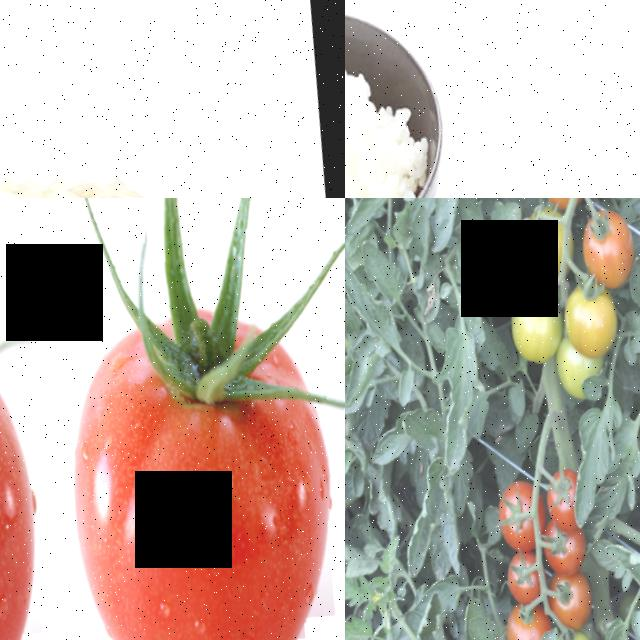tomato: (23, 226, 345, 640), (0, 256, 99, 640), (556, 266, 626, 359), (503, 274, 573, 364), (573, 198, 640, 288), (494, 465, 558, 549), (551, 557, 604, 625), (552, 617, 609, 640)
white rice: (0, 108, 291, 198), (345, 58, 427, 198)
